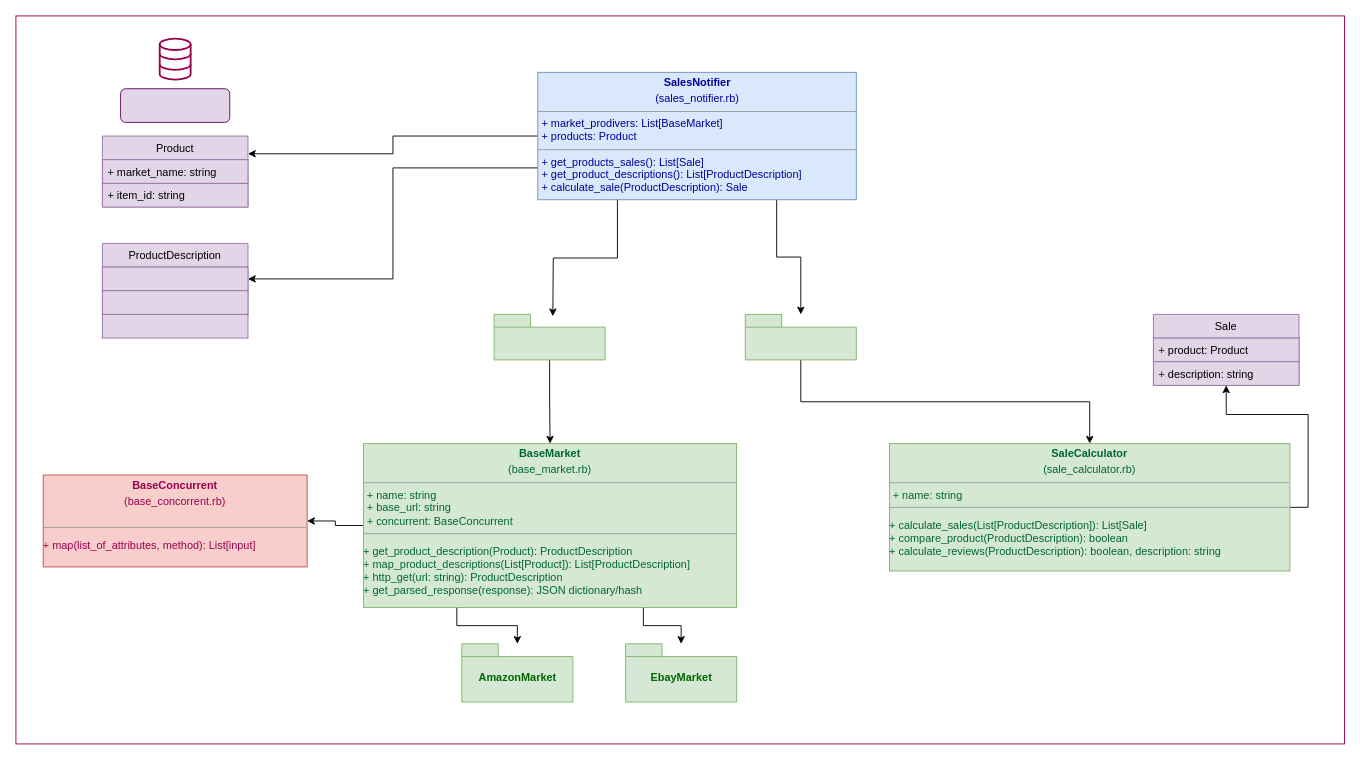
Image size: 1360x760. Some labels were removed from this diagram. Each missing label, with the centre of its shape:
"+ current_price: decimal" goes at (174,302).
"+ reviews: List[string]" goes at (174,325).
"+ start_price: decimal" goes at (174,278).
"ApiMarkets" goes at (549,336).
"Calculators" goes at (800,336).
"data structures" goes at (175,105).
